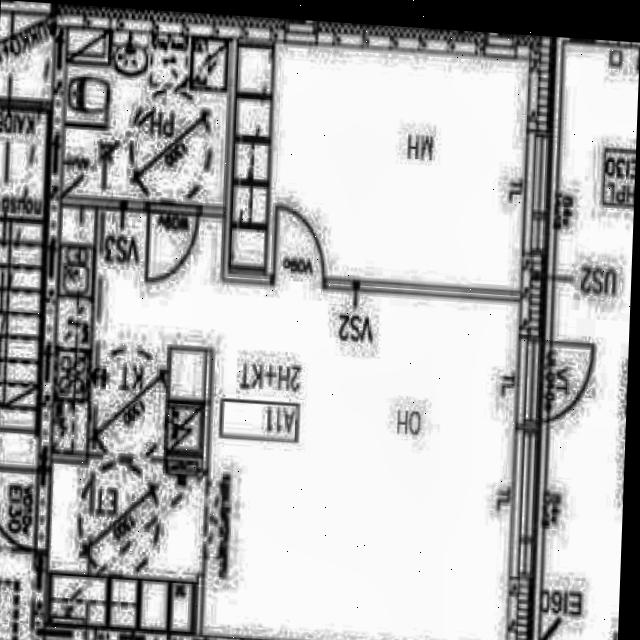room: (228, 42, 526, 288), (541, 47, 640, 640), (62, 30, 229, 205)
